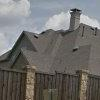Chimney: (60, 3, 87, 36)
